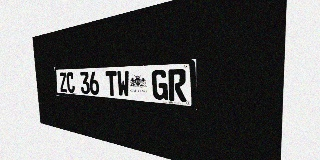3: (80, 72, 90, 94)
6: (89, 71, 99, 95)
C: (66, 72, 75, 93)
G: (152, 69, 168, 100)
R: (168, 69, 187, 102)
T: (105, 71, 118, 96)
W: (117, 71, 130, 97)
Z: (59, 72, 67, 92)
